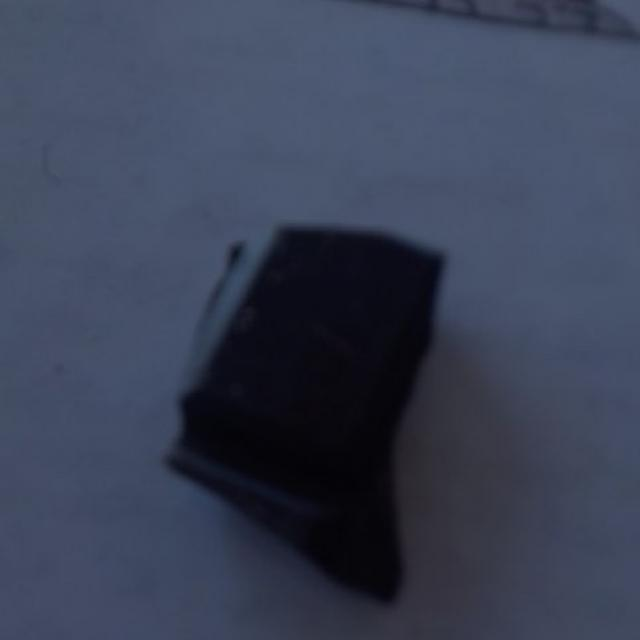chocolate: (169, 229, 440, 598)
